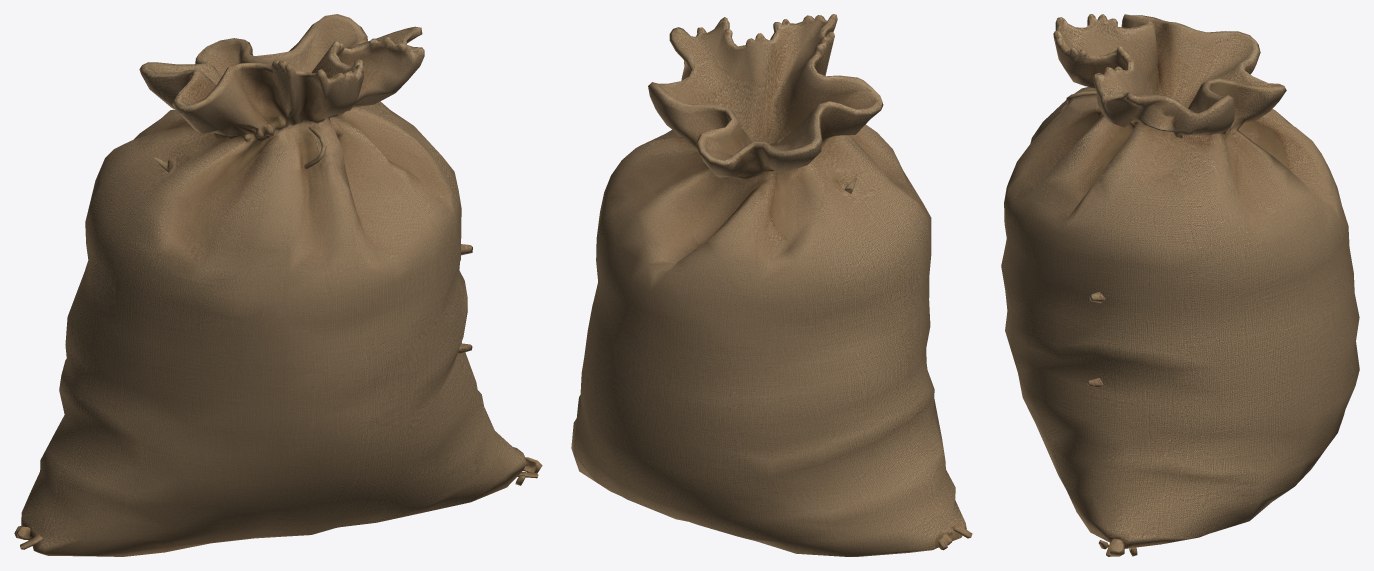
Rendered from sacco.fbx.
3 views of the same model, side by side, from view 1: azimuth 30°, elevation 25°; view 2: azimuth 150°, elevation 25°; view 3: azimuth 270°, elevation 25° (orthographic). The views are drawn at different scales.
Visible parts, largest first — view 1: tripo_node_c071c4bd; view 2: tripo_node_c071c4bd; view 3: tripo_node_c071c4bd.
Boxes of the visible parts, bbox=[...] form: tripo_node_c071c4bd: bbox=[14, 14, 542, 556]; tripo_node_c071c4bd: bbox=[571, 14, 972, 556]; tripo_node_c071c4bd: bbox=[1001, 14, 1359, 556].
Size of the model in its own units: 0.9995 by 0.978 by 0.731.
Materials: 1 (1 with a texture image).
